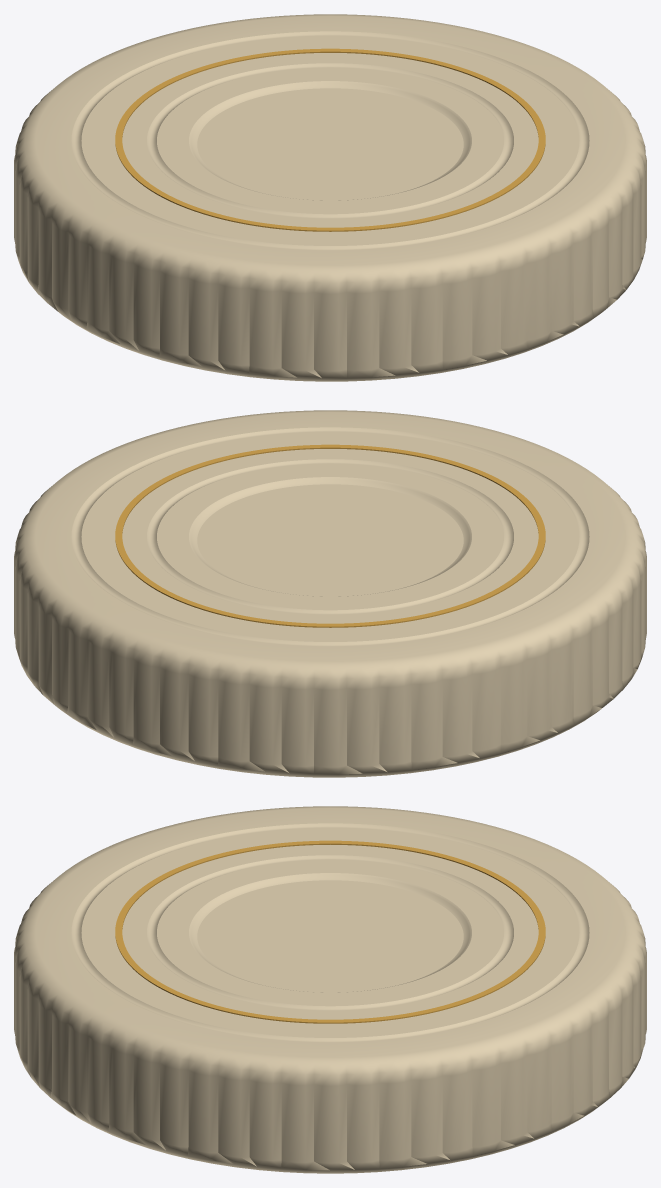
The model's file is man.obj.
3 renders of one model, top to bottom at view 1: azimuth 30°, elevation 25°; view 2: azimuth 150°, elevation 25°; view 3: azimuth 270°, elevation 25°, orthographic.
Parts seen in each view (by area): view 1: man; view 2: man; view 3: man.
Part boxes in pixels (x1=…): man: x1=14, y1=14, x2=646, y2=381; man: x1=14, y1=410, x2=646, y2=777; man: x1=14, y1=806, x2=646, y2=1173.
Size of the model in its own units: 0.76 by 0.1515 by 0.76.
